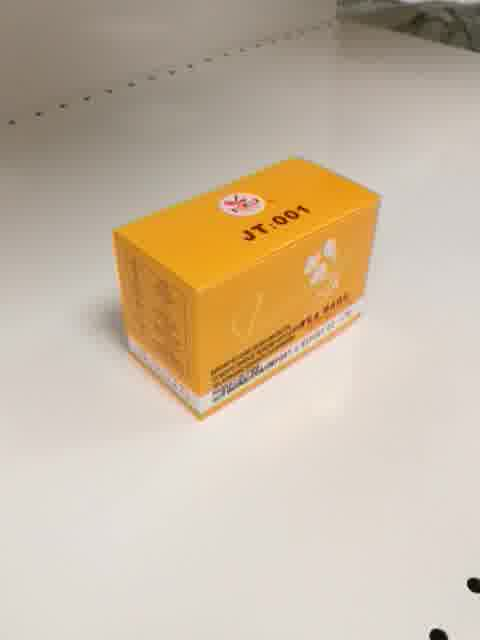jasminetea: (114, 157, 383, 422)
